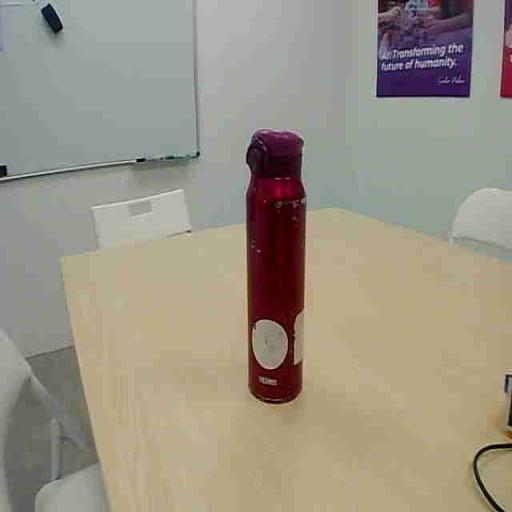bottle: (247, 131, 306, 402)
